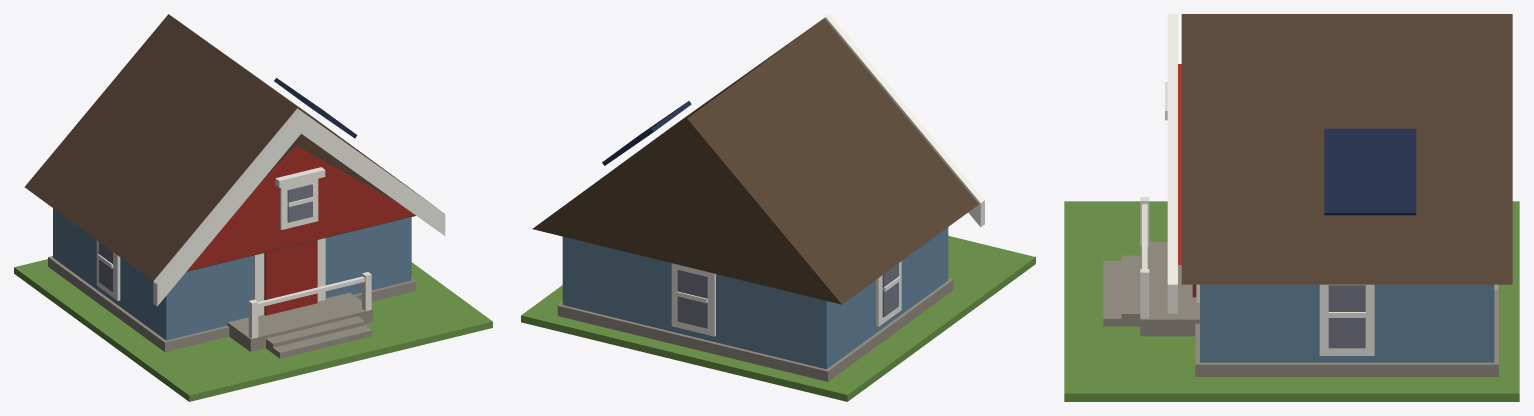
File: house-1x1-1f-victorian-a-solar.glb
The picture shows the model from 3 angles, left to right: view 1: azimuth 30°, elevation 25°; view 2: azimuth 150°, elevation 25°; view 3: azimuth 270°, elevation 25°; orthographic projection. The views are drawn at different scales.
Visible parts, largest first — view 1: house-1x1-1f-victorian-a-solar; view 2: house-1x1-1f-victorian-a-solar; view 3: house-1x1-1f-victorian-a-solar.
Boxes of the visible parts, left/top/right/bottom form: house-1x1-1f-victorian-a-solar: left=14, top=14, right=492, bottom=401; house-1x1-1f-victorian-a-solar: left=521, top=14, right=1035, bottom=401; house-1x1-1f-victorian-a-solar: left=1064, top=14, right=1519, bottom=401.
Bounding box in the file's own units: 0.99 × 0.7 × 0.99.
1 material, 1 textured.
